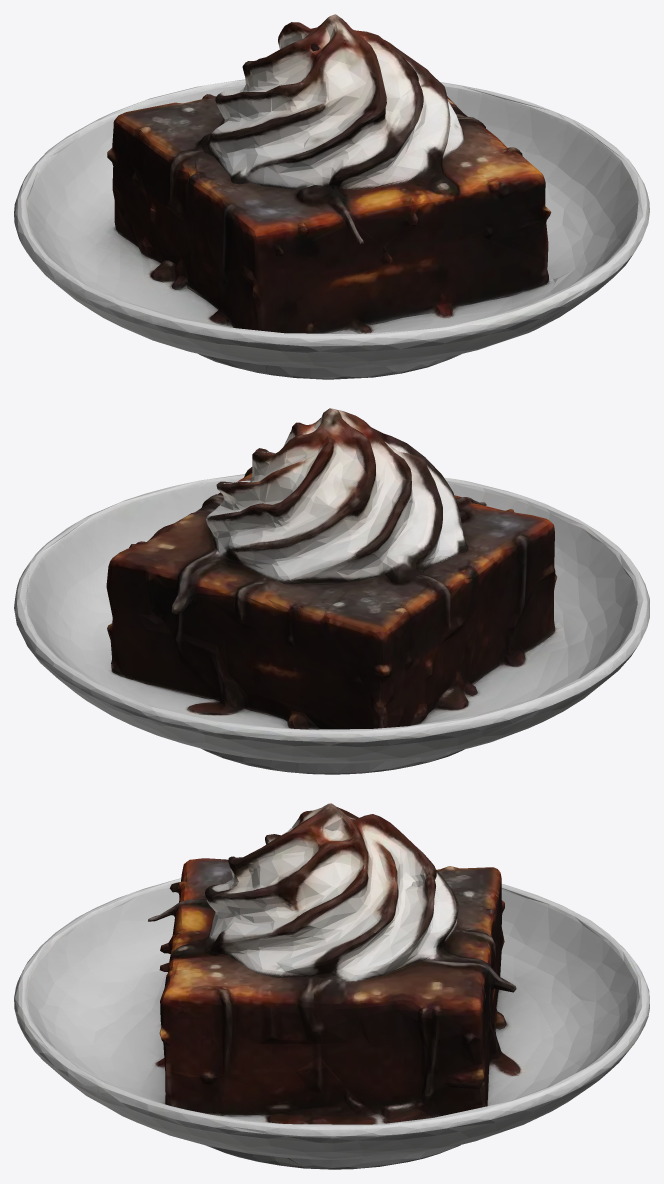
3 views of the same model, one above another, from view 1: azimuth 30°, elevation 25°; view 2: azimuth 150°, elevation 25°; view 3: azimuth 270°, elevation 25° (orthographic).
Parts seen in each view (by area): view 1: geometry_0; view 2: geometry_0; view 3: geometry_0.
Boxes of the visible parts, x1,y1,x2,y2 form: geometry_0: (14,14,649,379); geometry_0: (14,408,649,774); geometry_0: (14,803,649,1169).
Bounding box in the file's own units: 0.9982 × 0.5051 × 0.9898.
1 material, 1 textured.
